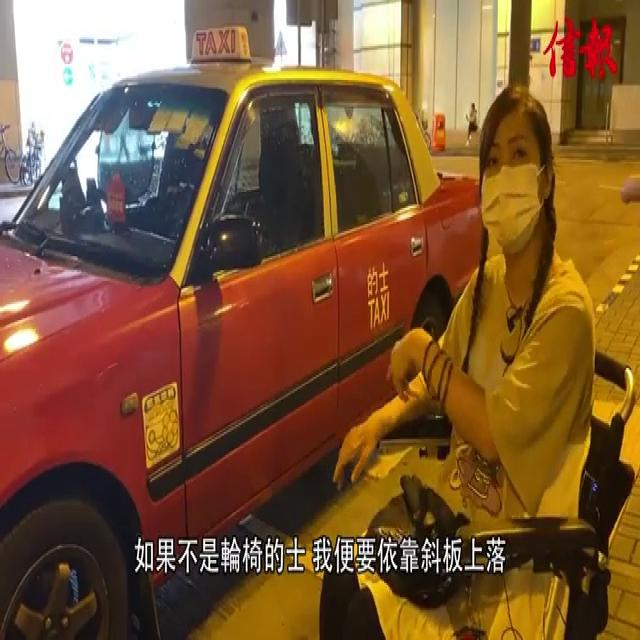wheelchairs: (358, 322, 640, 640)
